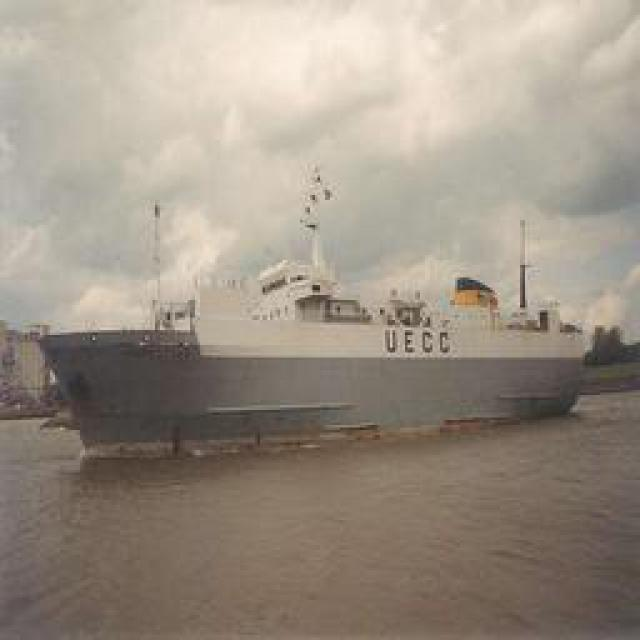Ship: (45, 202, 580, 440)
